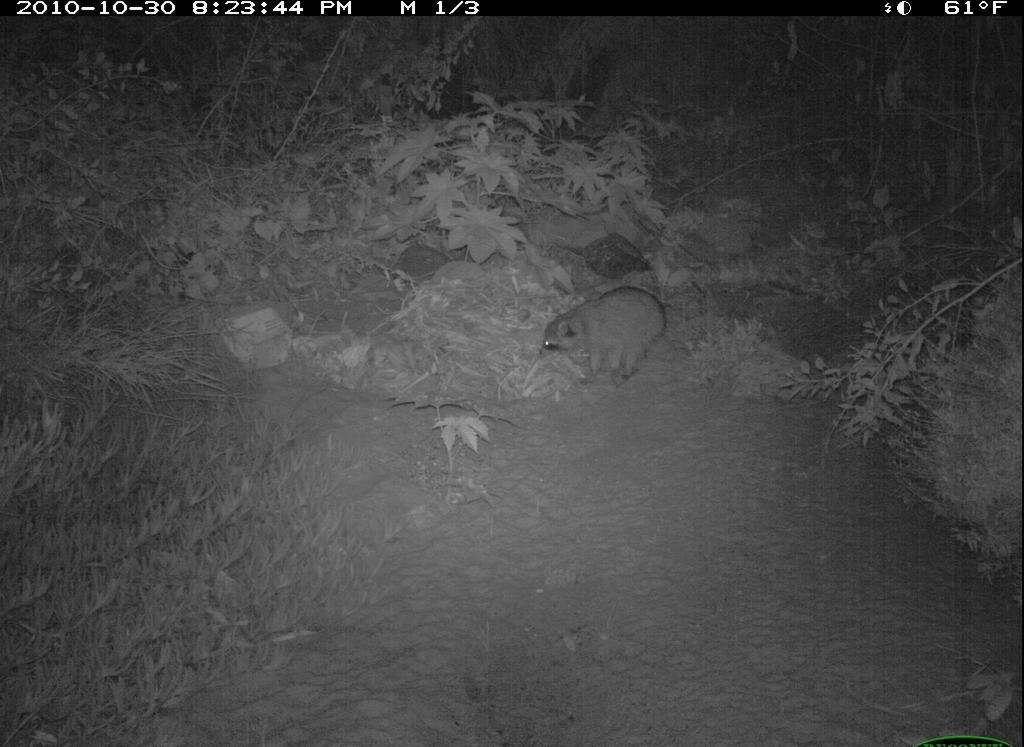raccoon: (534, 280, 680, 393)
